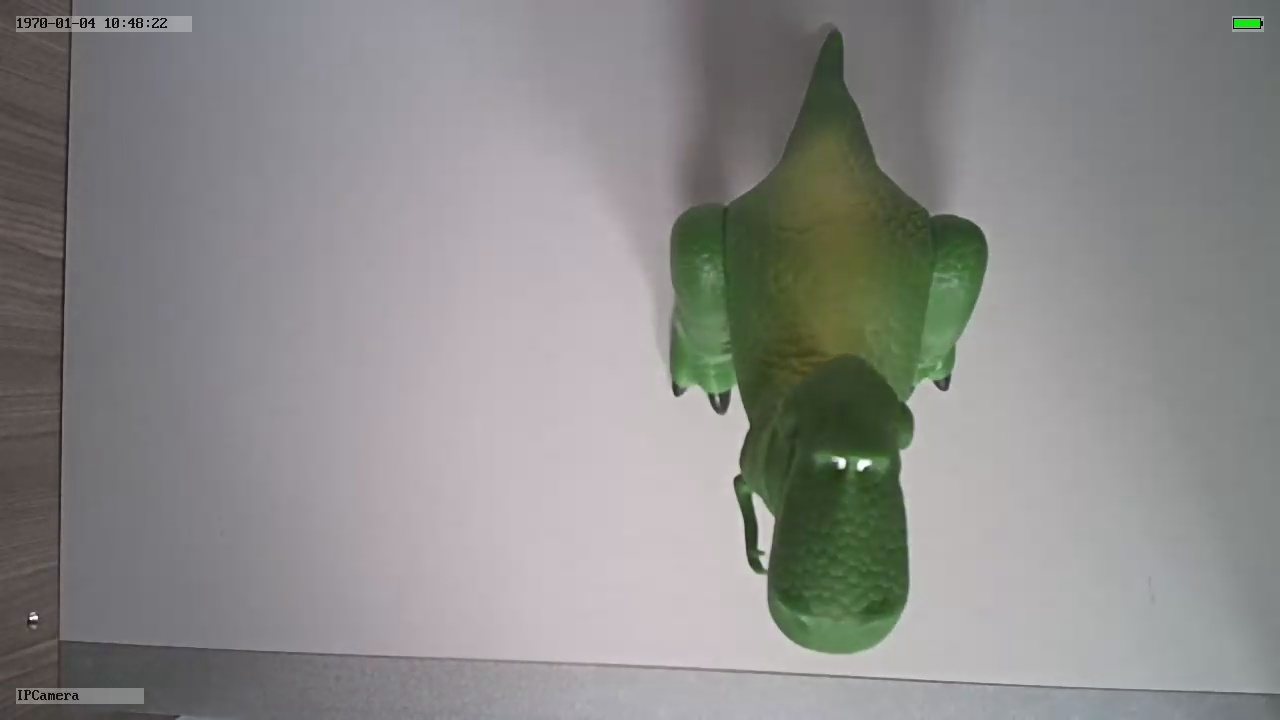rex: (667, 105, 991, 655)
